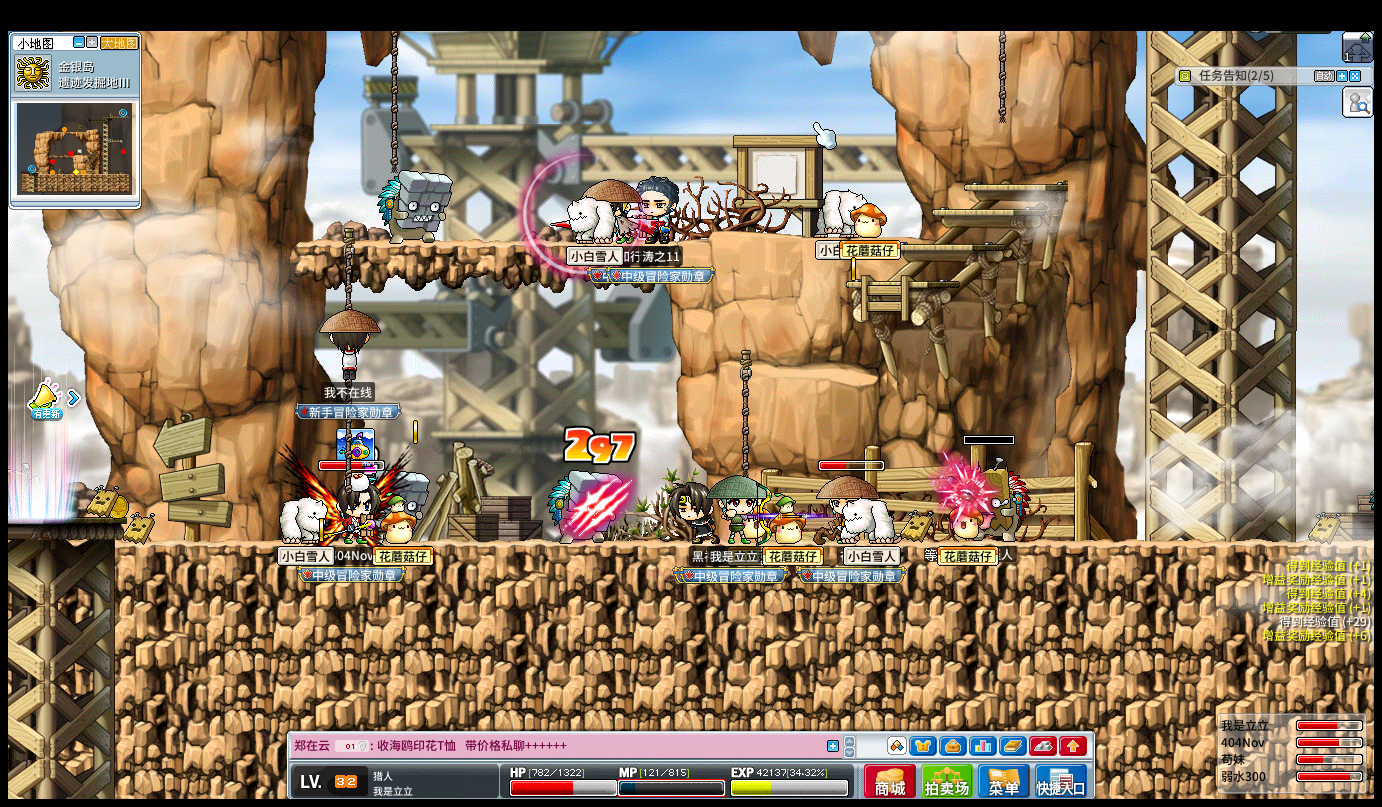floor: (295, 239, 678, 250), (768, 364, 878, 384), (782, 232, 934, 241), (844, 280, 956, 291), (842, 279, 959, 288), (7, 516, 124, 525), (894, 243, 1000, 251), (962, 183, 1065, 191), (927, 207, 1041, 214)
monster: (375, 170, 452, 243), (548, 473, 615, 542), (977, 463, 1028, 539), (395, 472, 431, 513)
rope: (737, 350, 751, 478), (996, 30, 1010, 121), (993, 30, 1006, 121), (336, 229, 351, 307), (389, 29, 397, 174), (340, 227, 354, 308)
